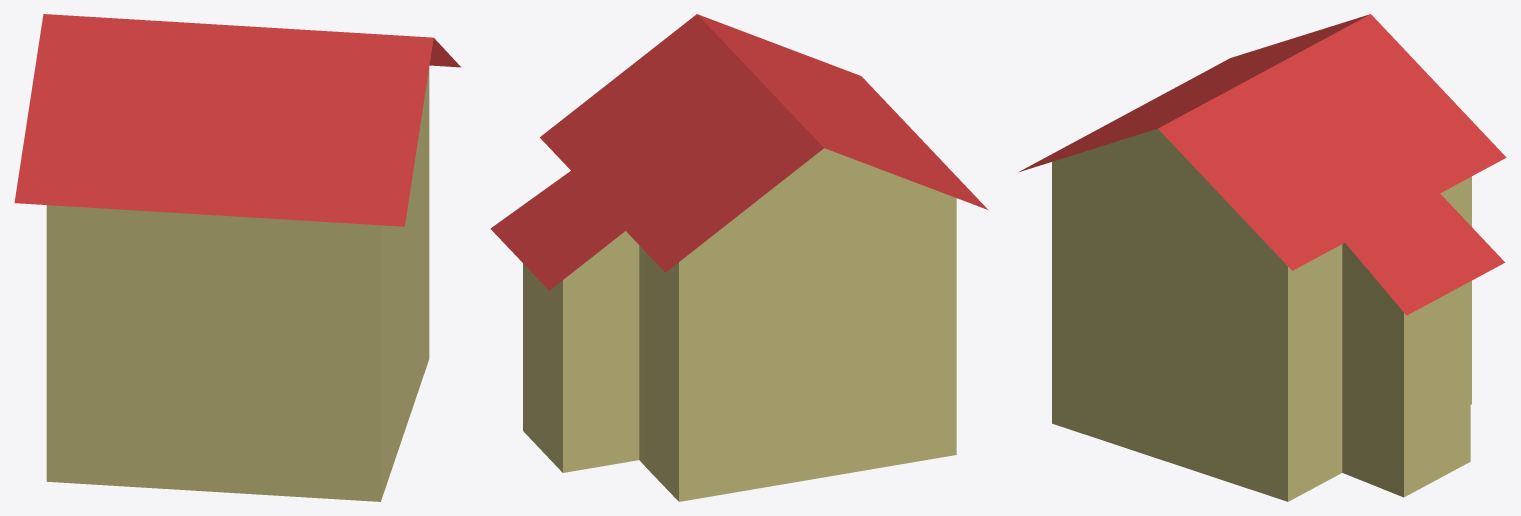
3 views of the same model, side by side, from view 1: azimuth 30°, elevation 25°; view 2: azimuth 150°, elevation 25°; view 3: azimuth 270°, elevation 25° (orthographic). The views are drawn at different scales.
Parts seen in each view (by area): view 1: group_5, group_3, group_4; view 2: group_5, group_3, group_4; view 3: group_5, group_3, group_4.
Part boxes in pixels (<box>): group_5: <box>46,68,429,501</box>; group_3: <box>16,14,433,226</box>; group_4: <box>14,14,460,226</box>; group_5: <box>523,148,956,501</box>; group_3: <box>523,14,956,279</box>; group_4: <box>490,14,987,290</box>; group_5: <box>1052,128,1471,501</box>; group_3: <box>1018,14,1506,295</box>; group_4: <box>1025,14,1504,315</box>.
Bounding box in the file's own units: 14.77 × 14.83 × 11.48.
